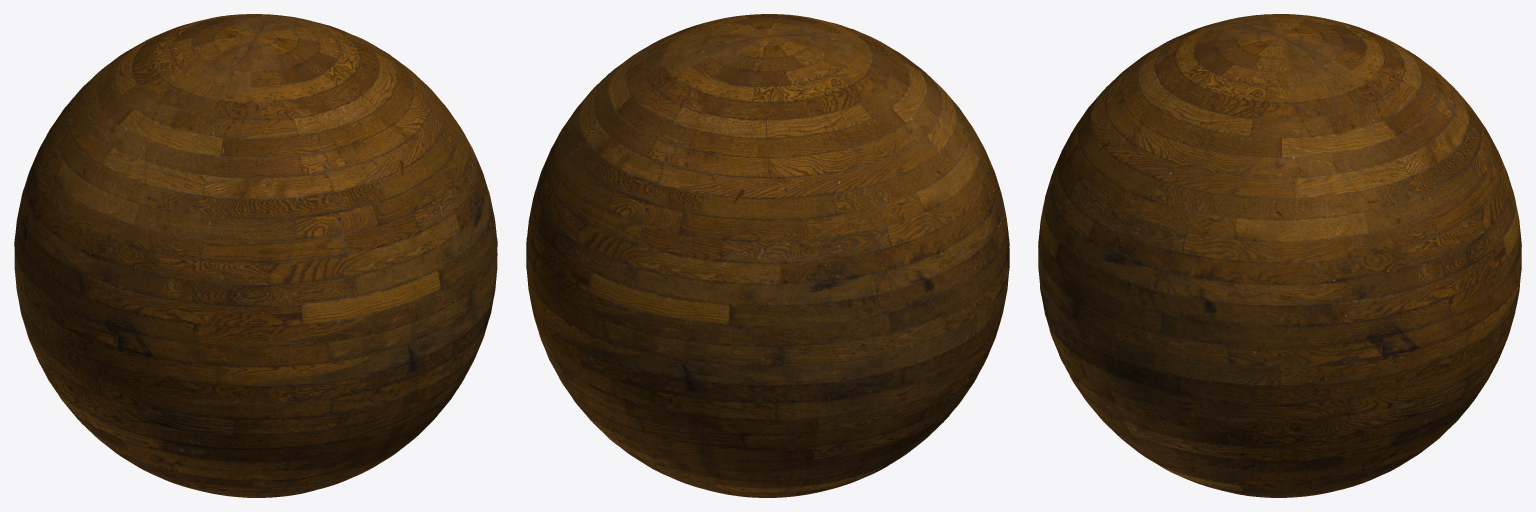
The model's file is old_wooden_floor_02_2k.gltf.
3 renders of one model, left to right at view 1: azimuth 30°, elevation 25°; view 2: azimuth 150°, elevation 25°; view 3: azimuth 270°, elevation 25°, orthographic.
Visible parts, largest first — view 1: sphere_gltf; view 2: sphere_gltf; view 3: sphere_gltf.
Part boxes in pixels (x1,y1,x2,y2): sphere_gltf: (14, 14, 497, 497); sphere_gltf: (526, 14, 1009, 497); sphere_gltf: (1038, 14, 1521, 497).
Bounding box in the file's own units: 1.99 × 1.99 × 1.99.
1 material, 1 textured.
